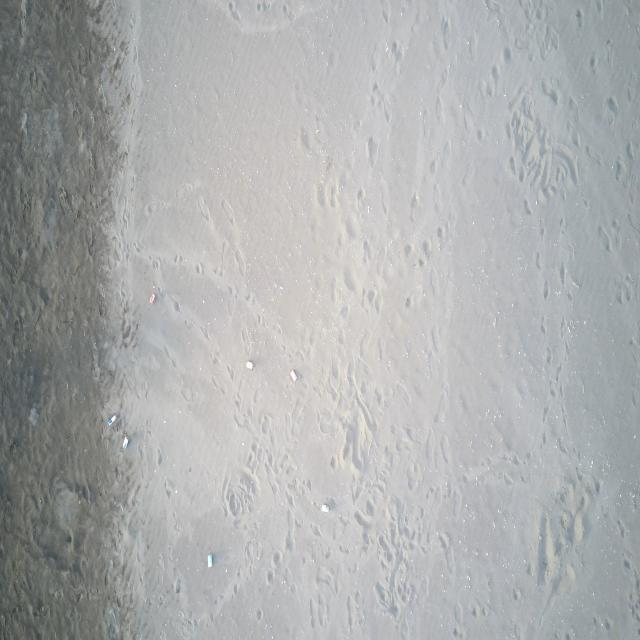Garbage: (320, 497, 335, 512), (27, 407, 37, 426), (105, 413, 116, 426), (207, 552, 213, 567), (148, 292, 156, 303), (289, 368, 296, 380), (121, 435, 128, 447), (320, 503, 329, 512), (246, 360, 252, 368)
